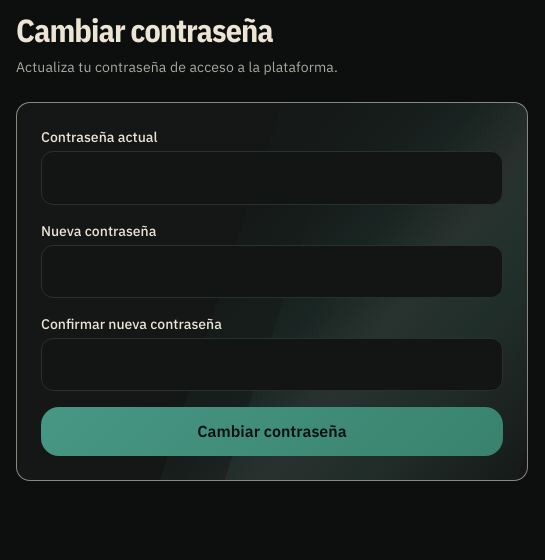
ChangePasswordPage › shows too short error when new password is less than 6 chars
Type "oldpass123" into the password field labelled "Contraseña actual" at (272, 178), box top-left (41, 152), bottom-right (503, 205)
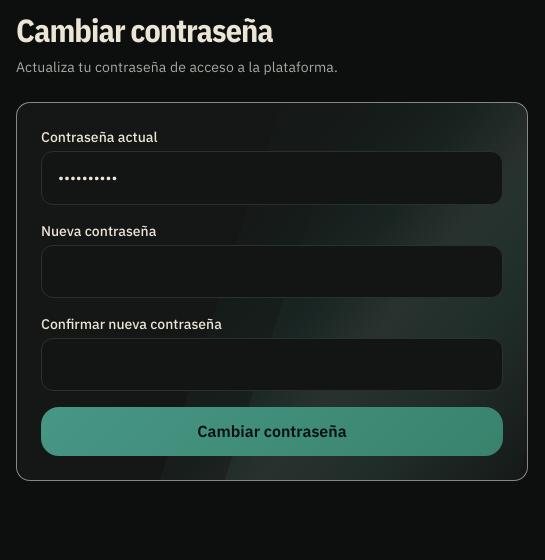
Type "12345" into the password field labelled "Nueva contraseña" at (272, 271), box top-left (41, 245), bottom-right (503, 298)
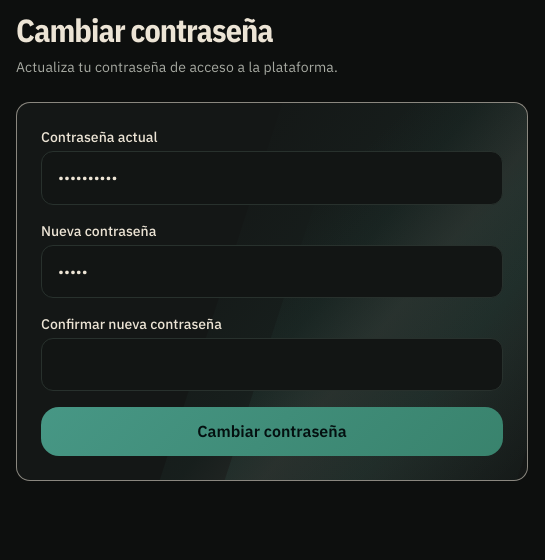
Type "12345" into the password field labelled "Confirmar nueva contraseña" at (272, 365), box top-left (41, 338), bottom-right (503, 391)
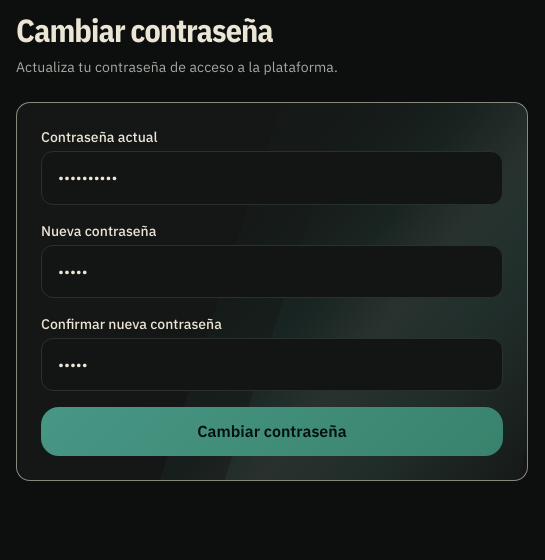
Click the button "Cambiar contraseña" at (272, 432), box top-left (41, 407), bottom-right (503, 456)
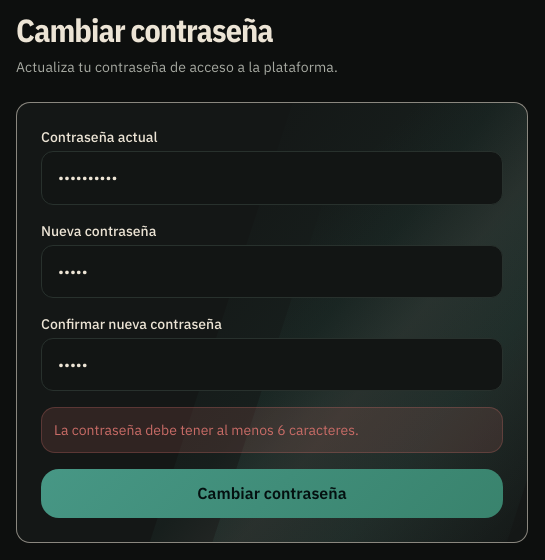
Expected: the text "La contraseña debe tener al menos 6 caracteres." is shown, top-left (41, 407), bottom-right (503, 453)
